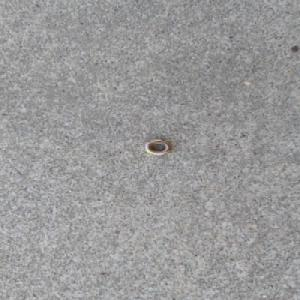Nut: (144, 139, 172, 155)
